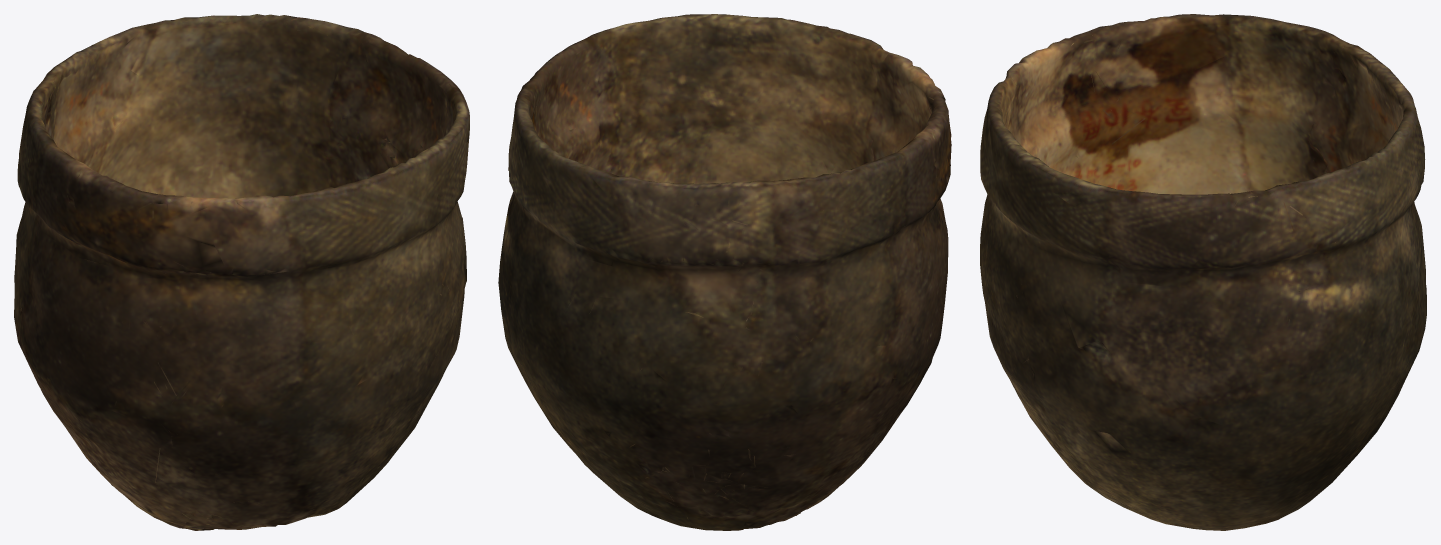
The picture shows the model from 3 angles, left to right: view 1: azimuth 30°, elevation 25°; view 2: azimuth 150°, elevation 25°; view 3: azimuth 270°, elevation 25°; orthographic projection. The views are drawn at different scales.
Parts seen in each view (by area): view 1: MY0006_low; view 2: MY0006_low; view 3: MY0006_low.
Boxes of the visible parts, left/top/right/bottom form: MY0006_low: left=14, top=14, right=469, bottom=530; MY0006_low: left=498, top=14, right=951, bottom=530; MY0006_low: left=980, top=14, right=1426, bottom=530.
Size of the model in its own units: 106 by 104 by 106.
Materials: 1 (1 with a texture image).
